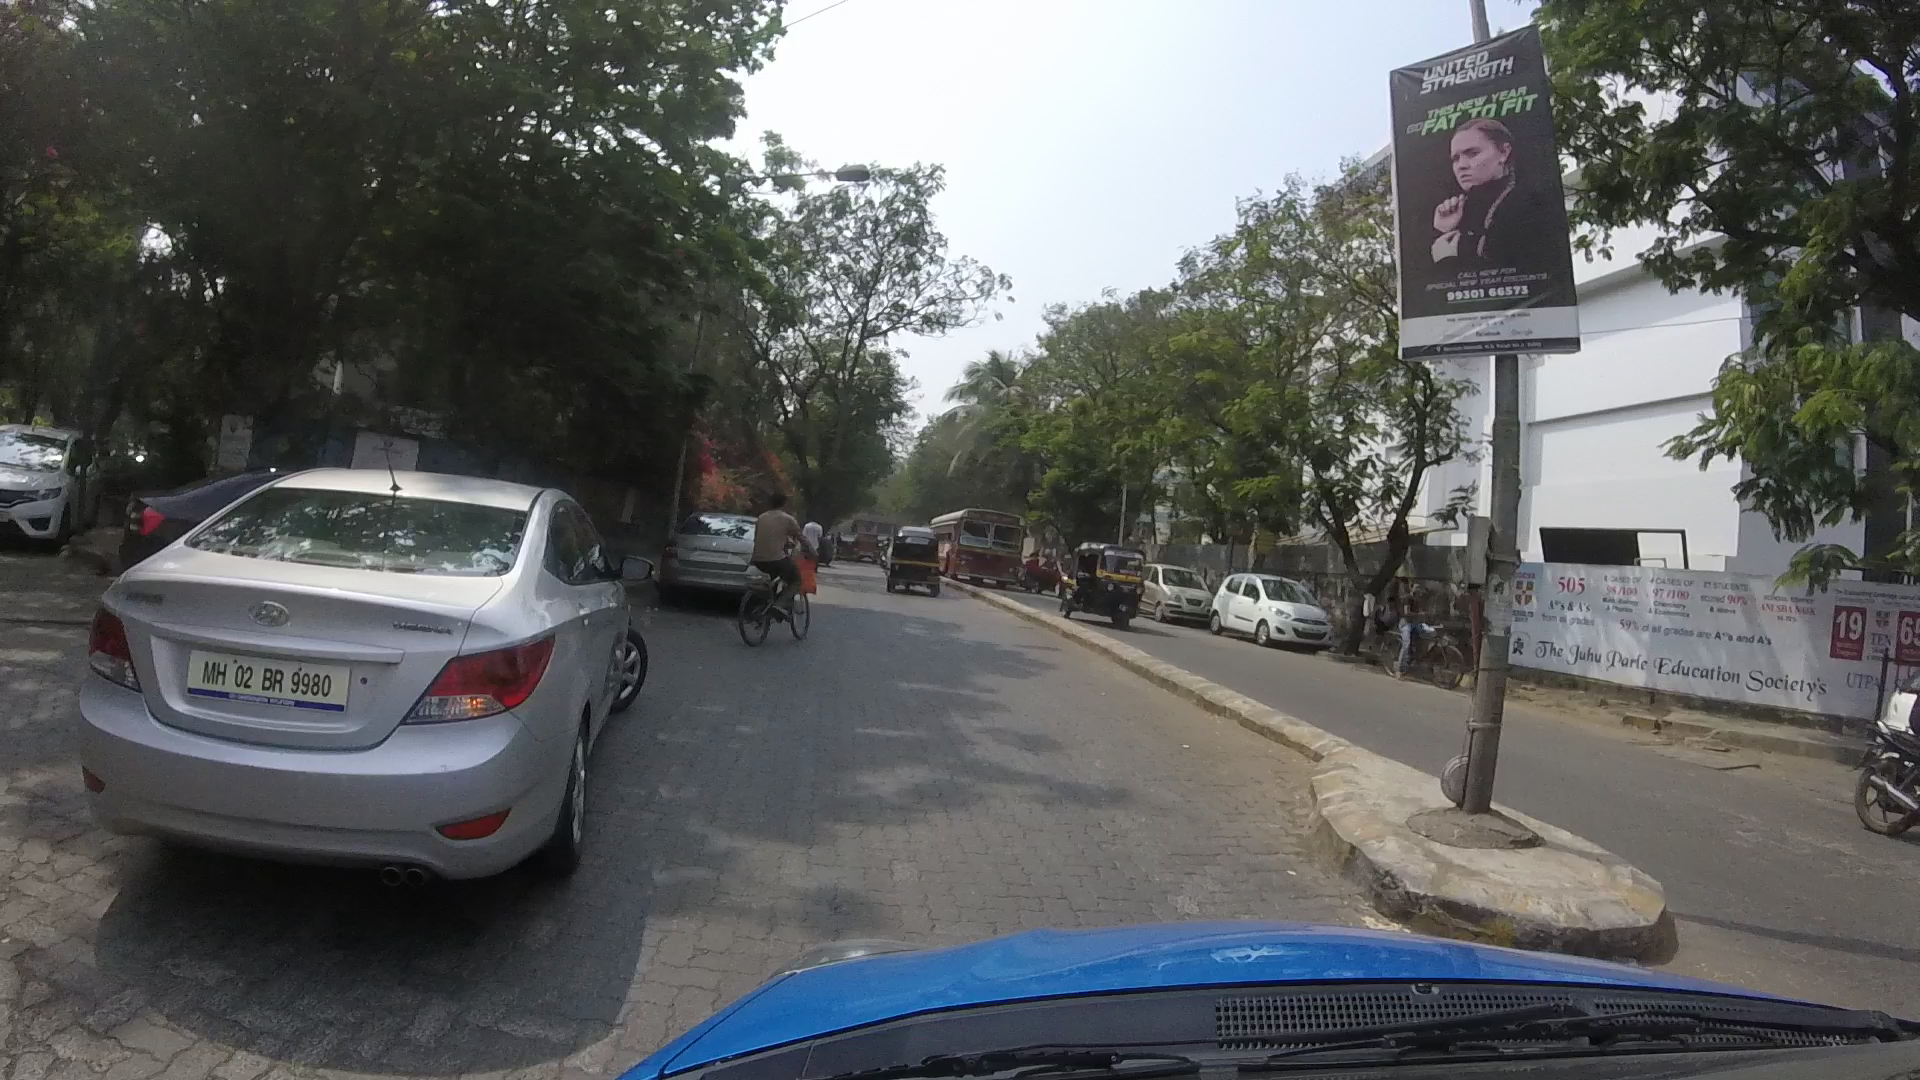car: (88, 436, 707, 931), (1211, 549, 1315, 659)
rickshaw: (1027, 504, 1156, 657), (874, 516, 965, 611)
